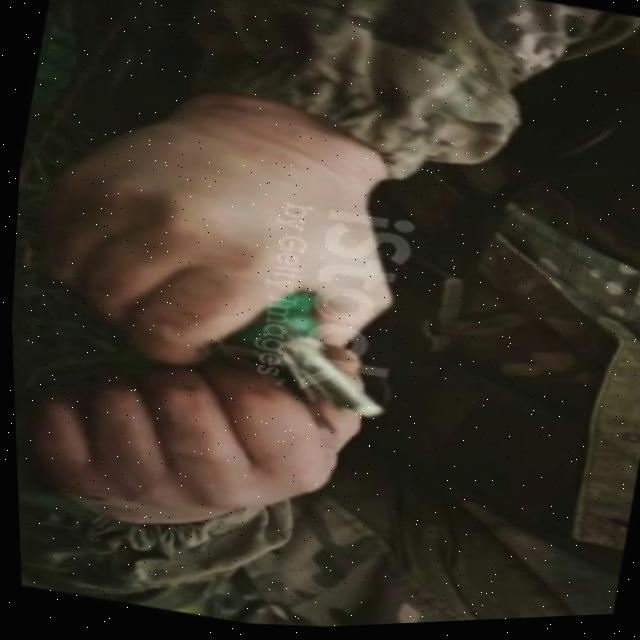grenade: (221, 283, 406, 438)
